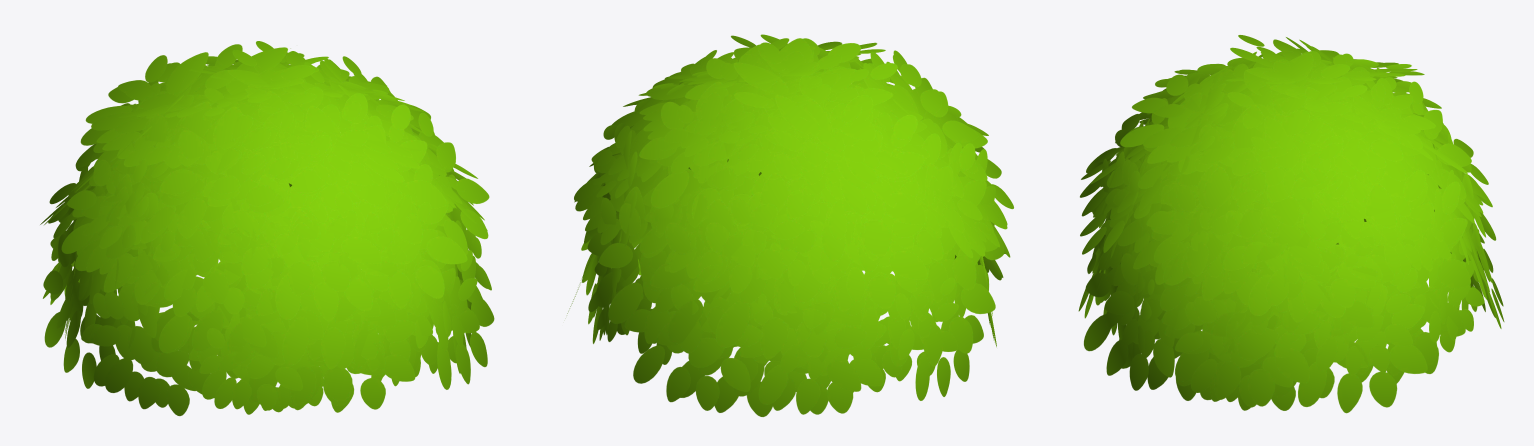
File: bush.glb
3 renders of one model, left to right at view 1: azimuth 30°, elevation 25°; view 2: azimuth 150°, elevation 25°; view 3: azimuth 270°, elevation 25°, orthographic. The views are drawn at different scales.
Visible parts, largest first — view 1: Bush; view 2: Bush; view 3: Bush.
Boxes of the visible parts, x1=… form: Bush: x1=40, y1=41, x2=494, y2=416; Bush: x1=567, y1=34, x2=1013, y2=416; Bush: x1=1078, y1=35, x2=1504, y2=413.
Size of the model in its own units: 1.09 by 0.6916 by 1.05.
1 material, 1 textured.
